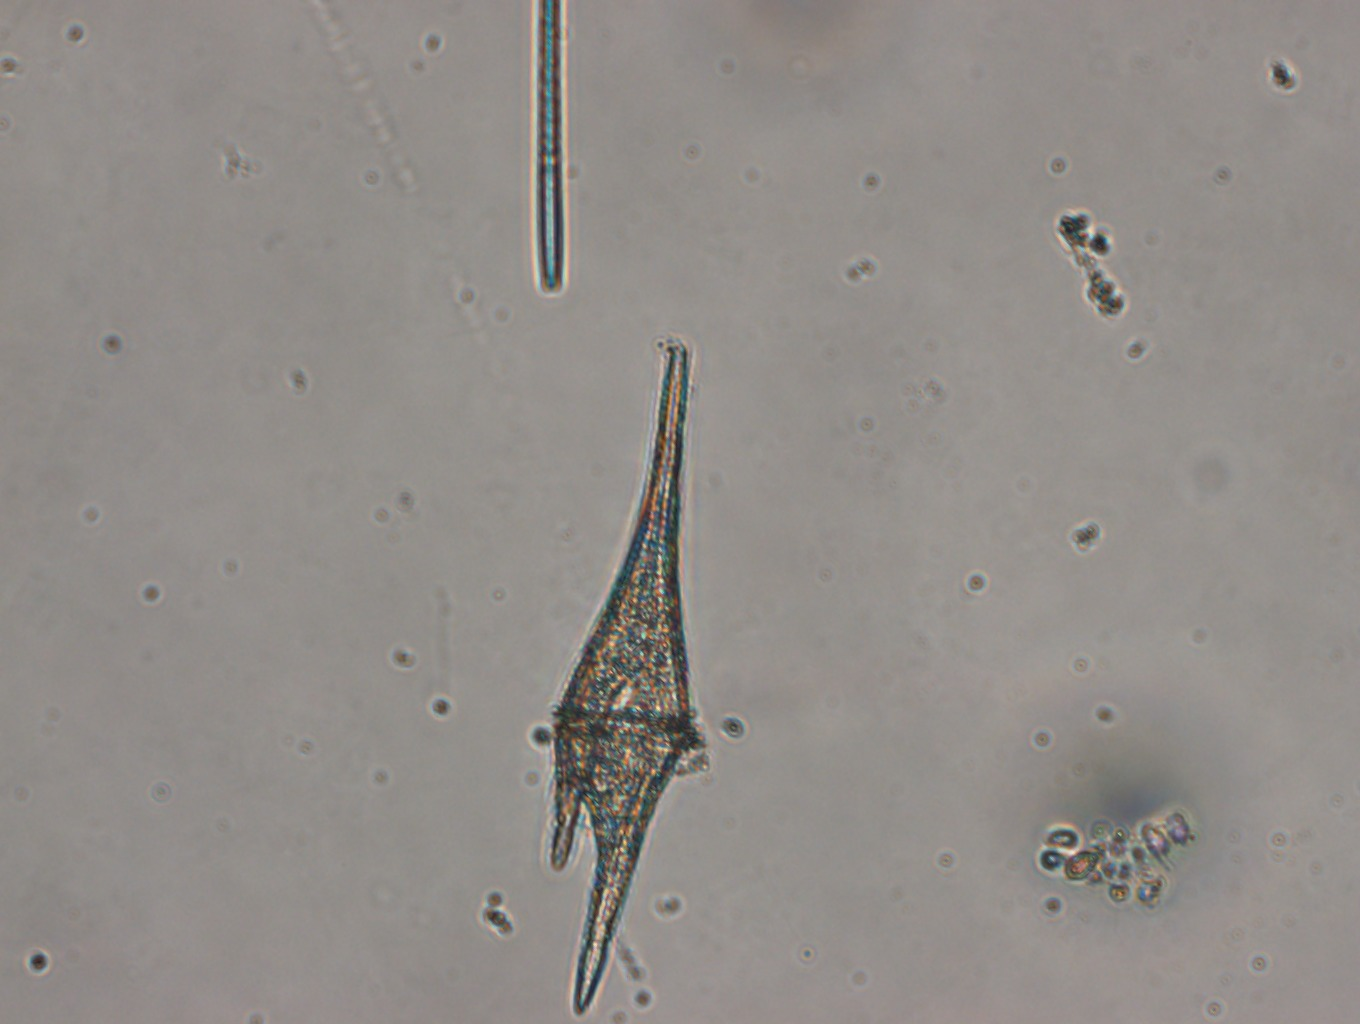ceratium furca: (547, 335, 707, 1016)
